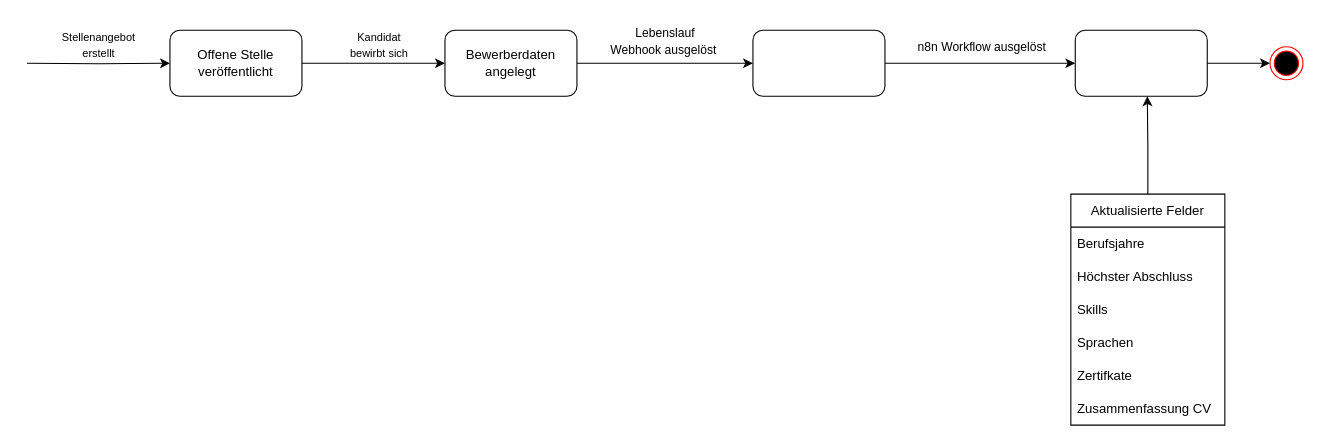
The diagram is 1322 pixels wide and 444 high, and some of its shapes have lost their labels. Here are the shapes that lost their labels. From the top down, the centre of each, then its label:
At pixel 818 62: "Lebenslauf Inhalte extrahieren".
At pixel 1140 62: "Bewerberprofil aktualisiert".
